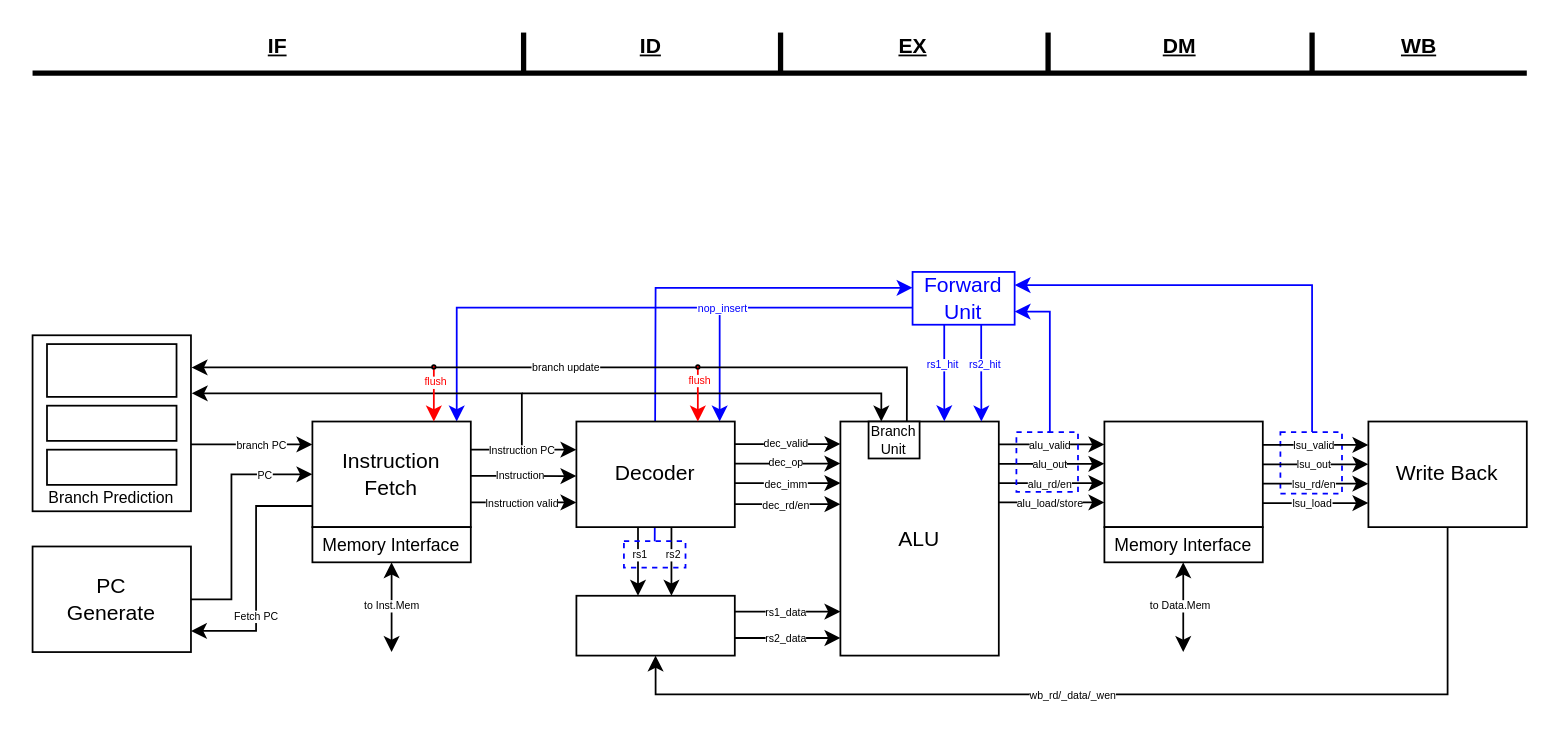
Image size: 1561x739. Some labels were removed from this diagram. Each missing label, with the centre of its shape:
"BHT (gshare)" goes at point 111,369.
"BTB" goes at point 111,422.
"LSU" goes at point 1183,473.
"RAS" goes at point 111,466.
"Register File" goes at point 655,625.
